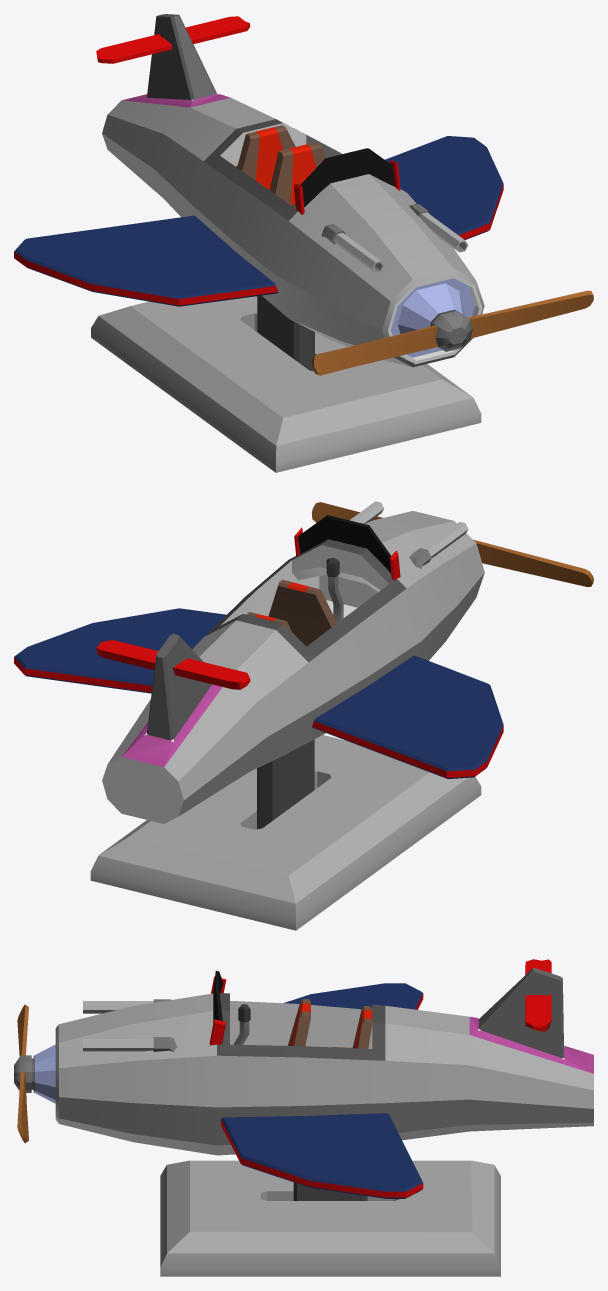
3 renders of one model, top to bottom at view 1: azimuth 30°, elevation 25°; view 2: azimuth 150°, elevation 25°; view 3: azimuth 270°, elevation 25°, orthographic. The views are drawn at different scales.
Parts seen in each view (by area): view 1: PlaneBody, Stand2, Propellor, Peg1; view 2: PlaneBody, Stand2, Peg1, Propellor, Lever; view 3: PlaneBody, Stand2, Propellor, Peg1, Lever.
Boxes of the visible parts, <box> form: PlaneBody: <box>14,14,503,367</box>; Stand2: <box>91,296,481,472</box>; Propellor: <box>312,290,593,375</box>; Peg1: <box>257,295,314,371</box>; PlaneBody: <box>14,501,503,823</box>; Stand2: <box>90,735,481,930</box>; Peg1: <box>257,739,314,829</box>; Propellor: <box>312,502,593,586</box>; Lever: <box>326,557,343,622</box>; PlaneBody: <box>34,959,593,1198</box>; Stand2: <box>160,1160,500,1276</box>; Propellor: <box>14,1004,34,1143</box>; Peg1: <box>293,1182,367,1200</box>; Lever: <box>233,1004,250,1044</box>.
Bounding box in the file's own units: 376 × 221 × 445.
